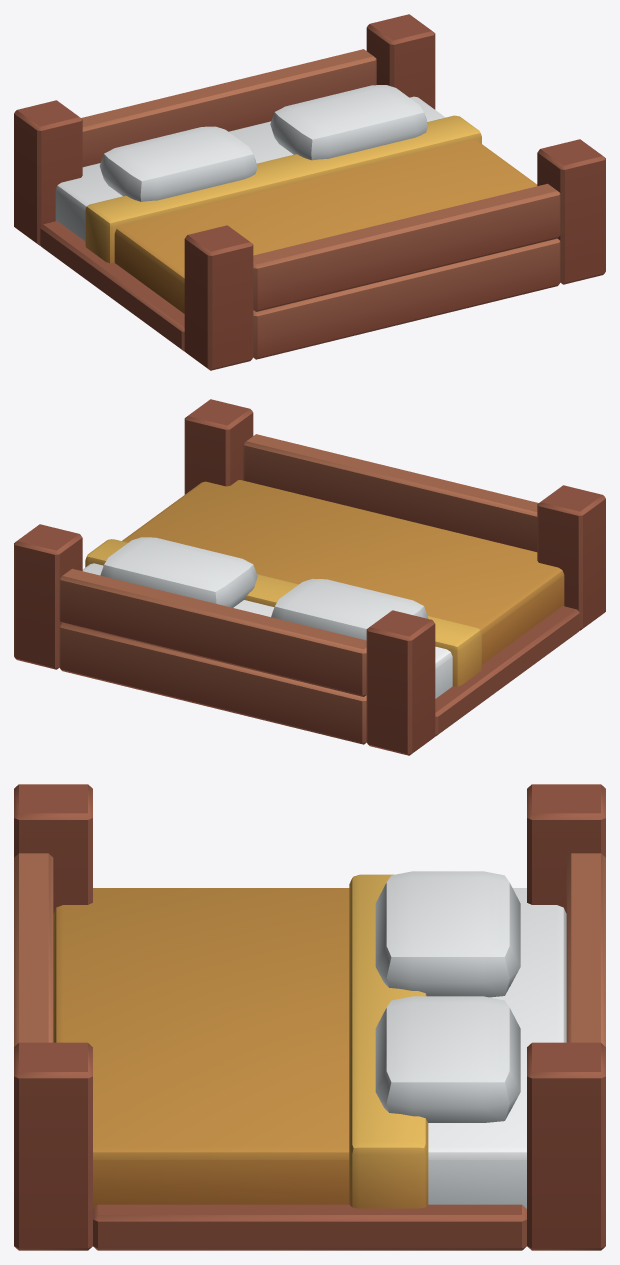
The model's file is bed_A_double.glb.
3 renders of one model, top to bottom at view 1: azimuth 30°, elevation 25°; view 2: azimuth 150°, elevation 25°; view 3: azimuth 270°, elevation 25°, orthographic. The views are drawn at different scales.
Visible parts, largest first — view 1: bed_A_double; view 2: bed_A_double; view 3: bed_A_double.
Part boxes in pixels (x1=…): bed_A_double: x1=14, y1=14, x2=605, y2=370; bed_A_double: x1=14, y1=399, x2=605, y2=755; bed_A_double: x1=14, y1=784, x2=605, y2=1250.
Bounding box in the file's own units: 3.5 × 1 × 3.
1 material, 1 textured.
